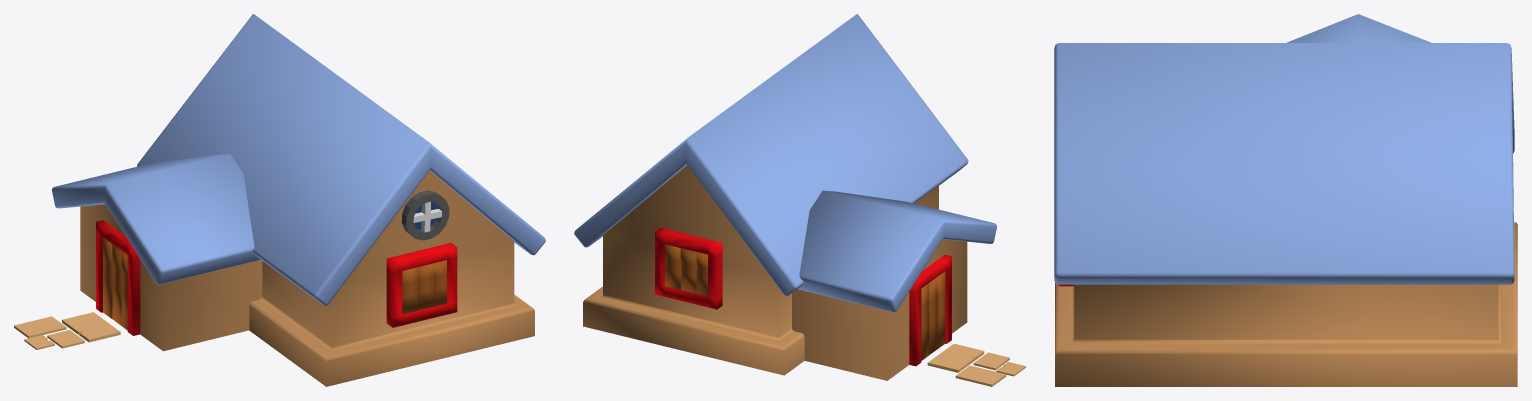
File: main house.fbx
The picture shows the model from 3 angles, left to right: view 1: azimuth 30°, elevation 25°; view 2: azimuth 150°, elevation 25°; view 3: azimuth 270°, elevation 25°; orthographic projection. The views are drawn at different scales.
Parts seen in each view (by area): view 1: Cube.030; view 2: Cube.030; view 3: Cube.030.
Boxes of the visible parts, box(x1,y1,x2,y2) form: Cube.030: box(14, 14, 545, 386); Cube.030: box(574, 14, 1025, 386); Cube.030: box(1054, 14, 1517, 386).
Size of the model in its own units: 1346 by 702 by 1055.
